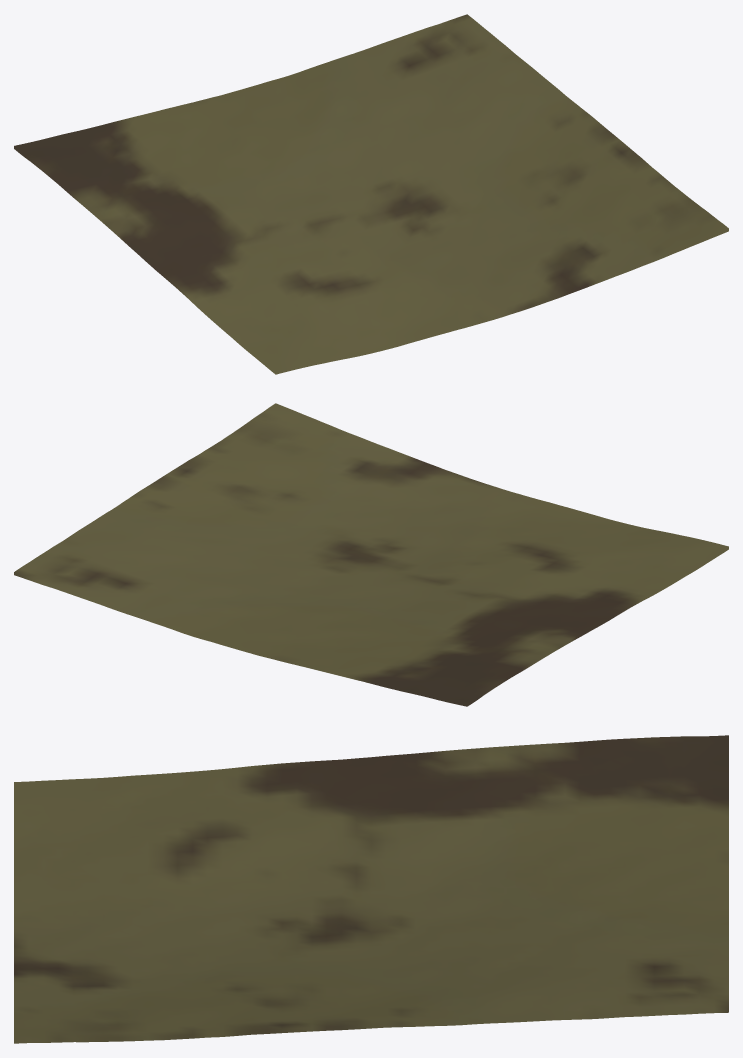
The model's file is land_m_09_11.glb.
3 renders of one model, top to bottom at view 1: azimuth 30°, elevation 25°; view 2: azimuth 150°, elevation 25°; view 3: azimuth 270°, elevation 25°, orthographic. The views are drawn at different scales.
Visible parts, largest first — view 1: land_m_09_11; view 2: land_m_09_11; view 3: land_m_09_11.
Boxes of the visible parts, bbox=[...] form: land_m_09_11: bbox=[14, 14, 728, 374]; land_m_09_11: bbox=[14, 403, 728, 706]; land_m_09_11: bbox=[14, 735, 728, 1043].
Size of the model in its own units: 960 by 122 by 960.
